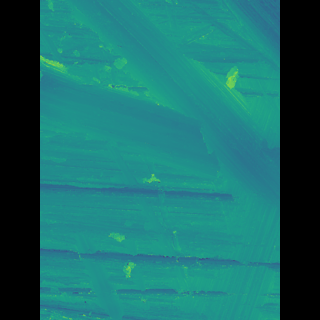Loch: (71, 0, 250, 207)
